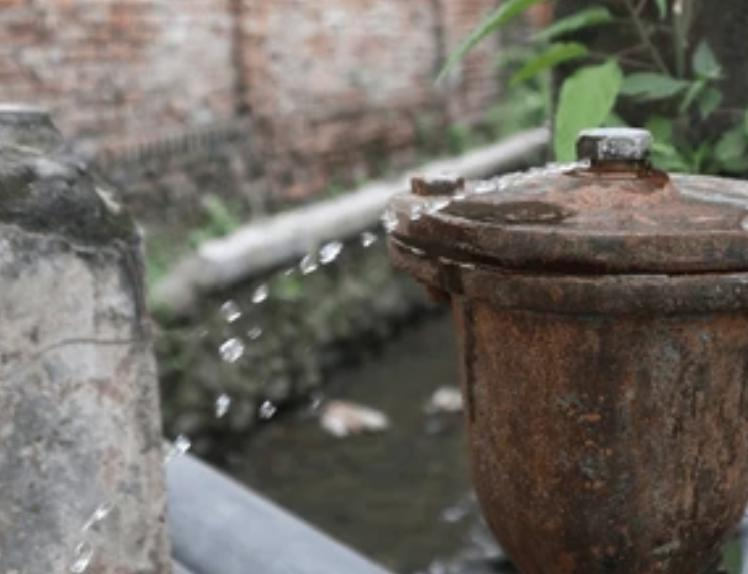pipe burst: (406, 156, 593, 220)
water drop: (82, 495, 120, 531), (67, 537, 93, 572), (220, 338, 247, 362), (319, 239, 344, 264), (220, 300, 243, 322), (250, 282, 270, 304), (300, 254, 317, 275), (382, 212, 400, 230), (361, 232, 377, 247)
